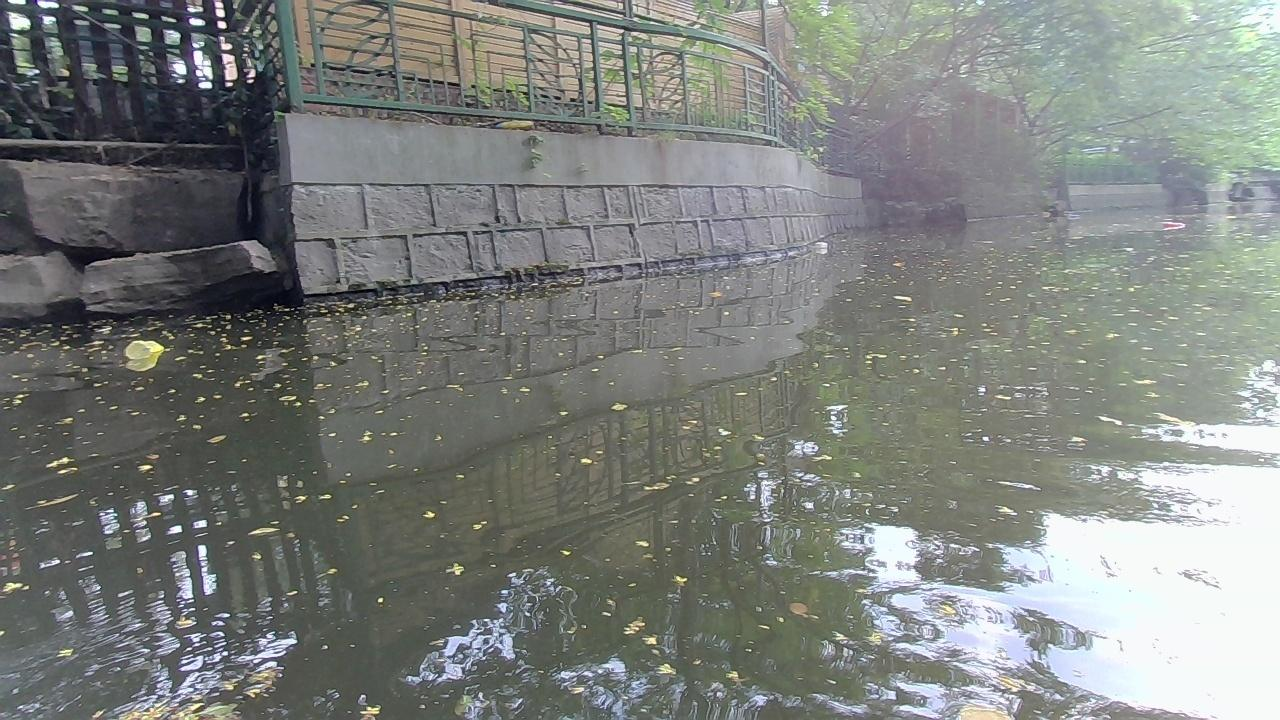bottle: (1153, 219, 1193, 233), (812, 235, 830, 249)
